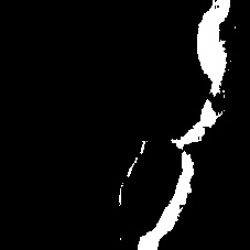crack: (137, 4, 233, 249), (116, 140, 149, 210)
pinhole: (117, 235, 125, 245)
